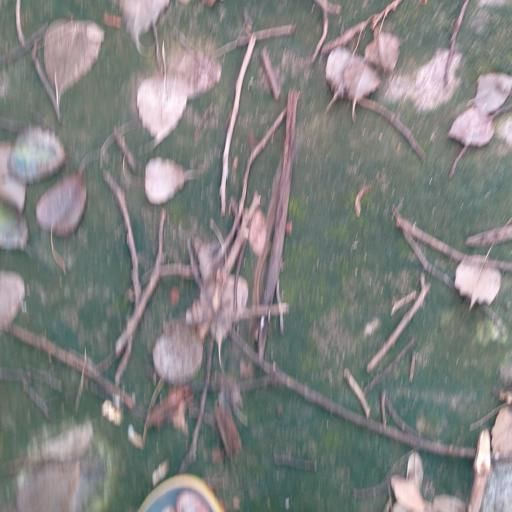algae: (0, 0, 509, 507)
